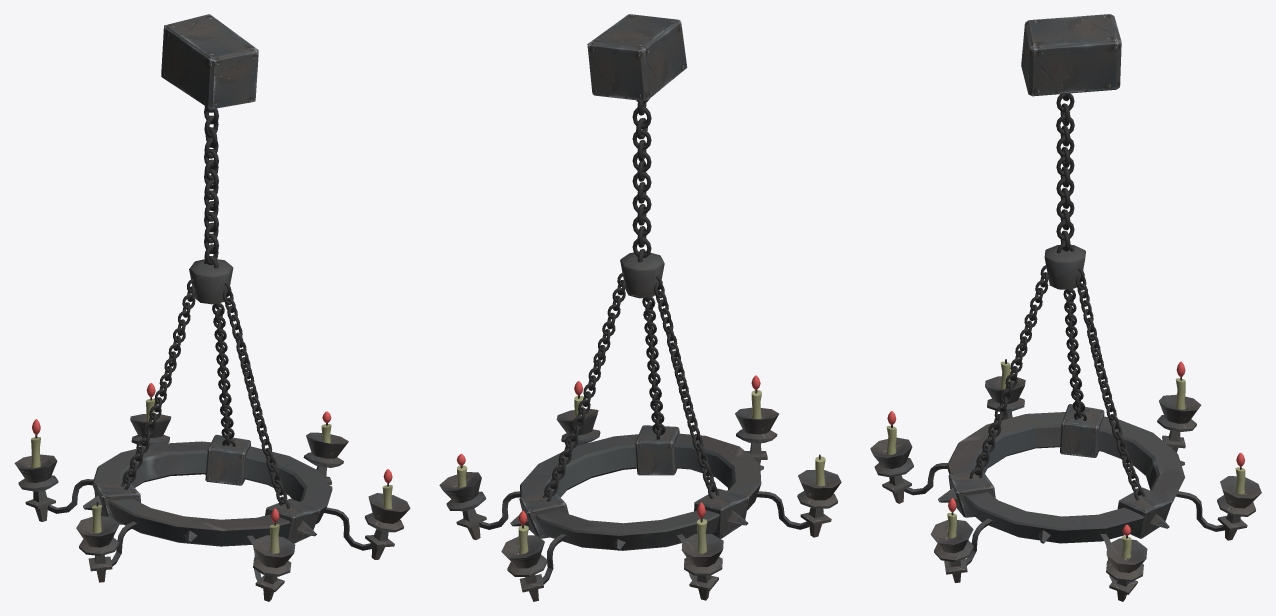
Rendered from Chandelier.fbx.
3 views of the same model, side by side, from view 1: azimuth 30°, elevation 25°; view 2: azimuth 150°, elevation 25°; view 3: azimuth 270°, elevation 25° (orthographic). The views are drawn at different scales.
Visible parts, largest first — view 1: 1_Chandlier; view 2: 1_Chandlier; view 3: 1_Chandlier.
Part boxes in pixels (x1,y1,x2,y2): 1_Chandlier: [14, 14, 410, 601]; 1_Chandlier: [439, 14, 841, 601]; 1_Chandlier: [870, 14, 1261, 601].
Bounding box in the file's own units: 287 × 435 × 302.
